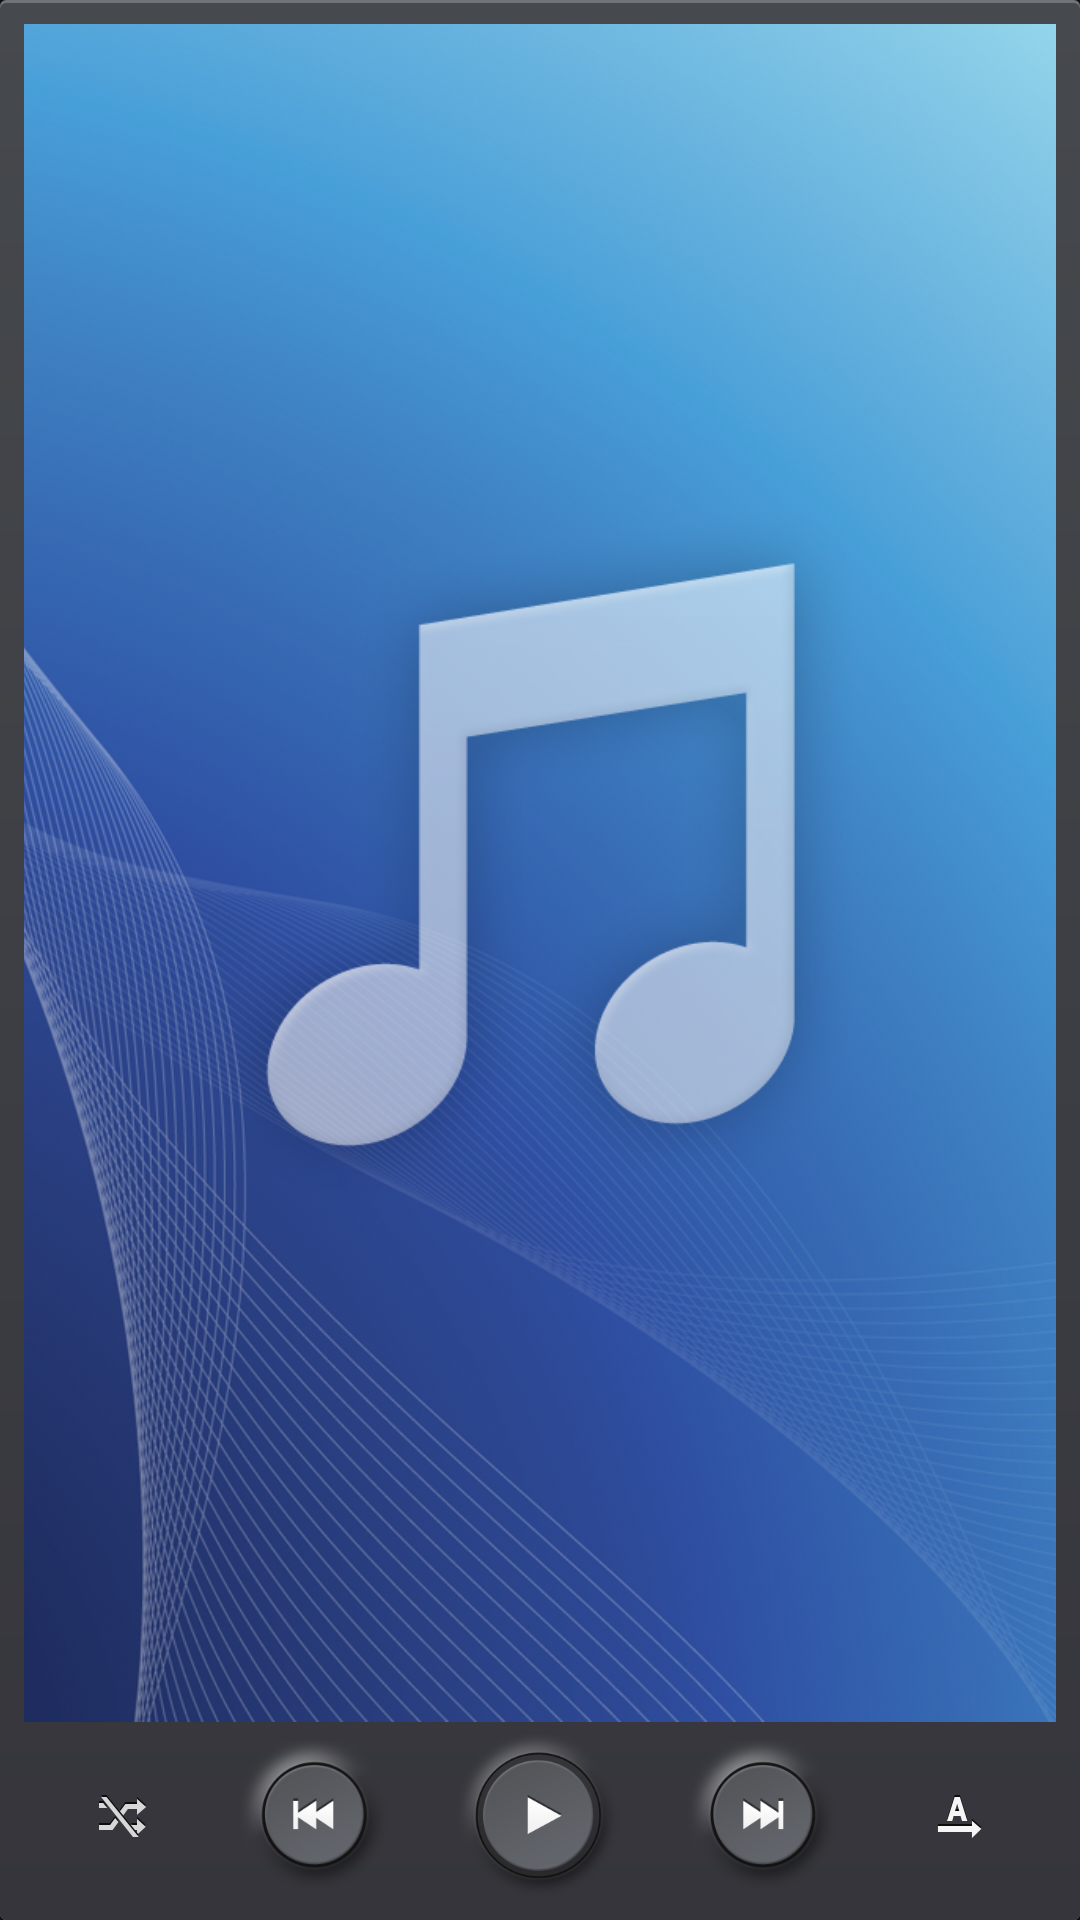

Point at icon controls on the screen. Image size 1080w x 1920h, points as [x,y].
Next: [758,1808]
Play: [536,1811]
Previous: [310,1808]
Shuffle: [122,1816]
